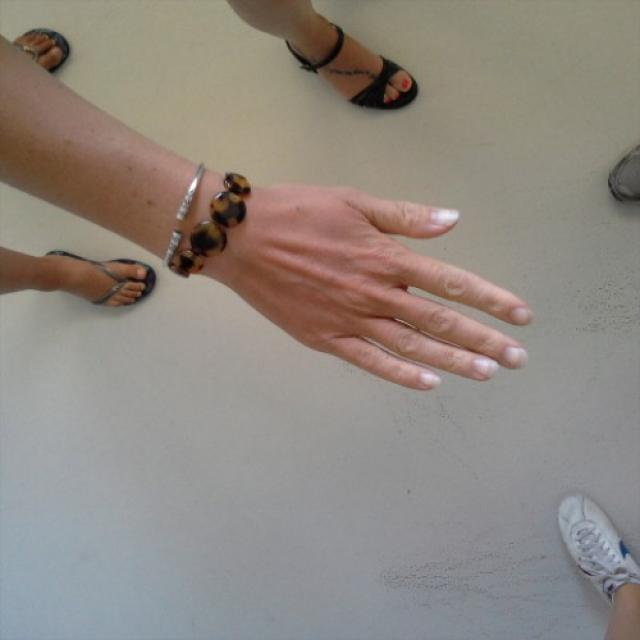paper: (237, 182, 532, 392)
